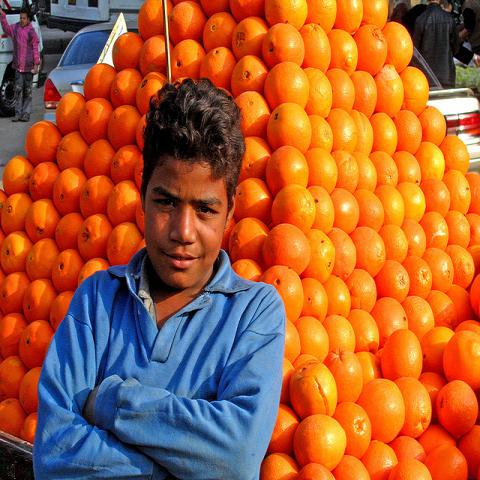car: (42, 21, 145, 126), (410, 42, 480, 168), (0, 12, 20, 116)
